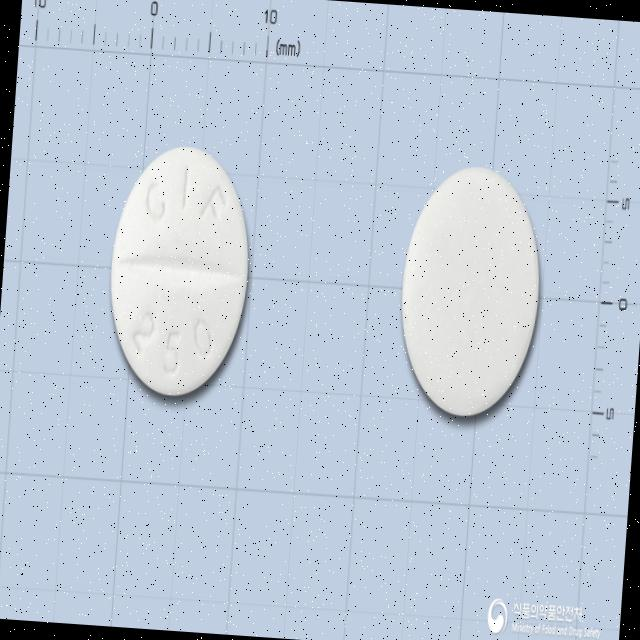Sinil Ciprofloxacin HCl Tab: (100, 138, 257, 402)
